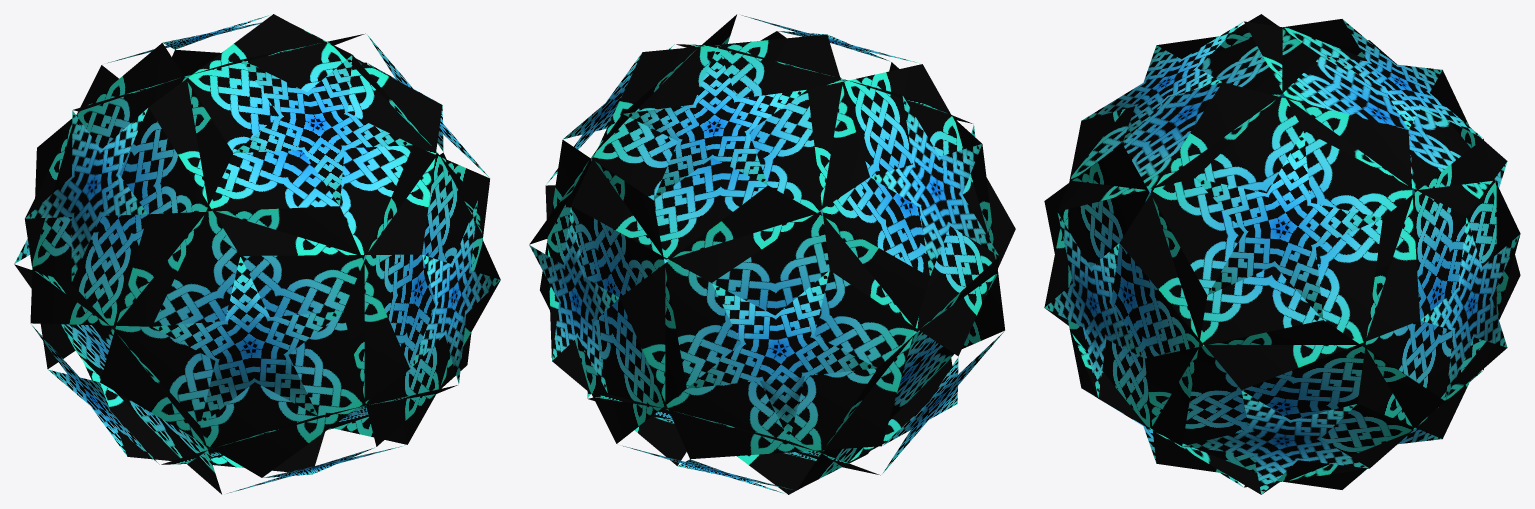
The model's file is 36SnubDodecadodecahedron.gltf.
3 views of the same model, side by side, from view 1: azimuth 30°, elevation 25°; view 2: azimuth 150°, elevation 25°; view 3: azimuth 270°, elevation 25° (orthographic).
Visible parts, largest first — view 1: 25SnubDodecadodecahedron; view 2: 25SnubDodecadodecahedron; view 3: 25SnubDodecadodecahedron.
Part boxes in pixels (x1,y1,x2,y2): 25SnubDodecadodecahedron: [14, 14, 500, 494]; 25SnubDodecadodecahedron: [529, 14, 1015, 494]; 25SnubDodecadodecahedron: [1044, 14, 1520, 494].
Size of the model in its own units: 2.48 by 2.48 by 2.48.
Materials: 1 (1 with a texture image).
